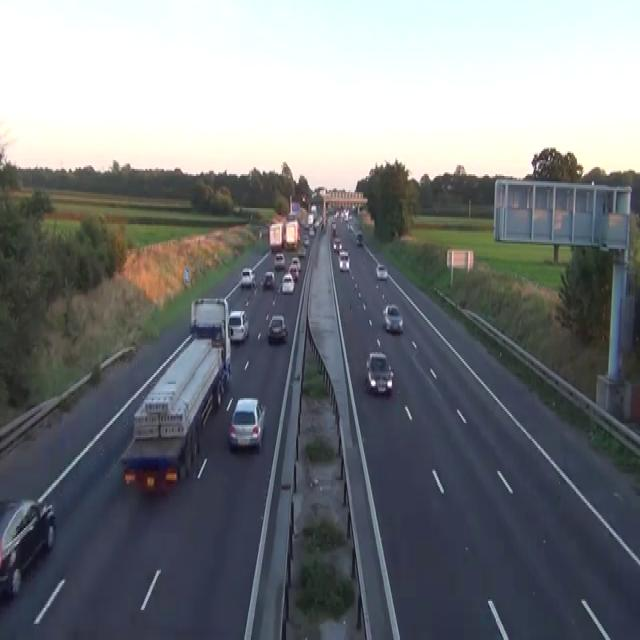Car: (0, 496, 56, 597), (228, 396, 266, 452), (365, 350, 393, 395), (228, 309, 249, 343), (267, 313, 287, 343), (382, 304, 403, 332), (240, 267, 255, 286), (338, 249, 350, 272), (281, 272, 294, 293), (211, 325, 222, 347), (262, 270, 275, 288), (274, 252, 285, 270), (288, 263, 299, 281), (376, 263, 387, 279), (291, 256, 301, 272), (313, 215, 323, 231), (332, 238, 342, 251), (356, 231, 363, 245), (307, 213, 314, 226), (342, 208, 349, 220), (298, 245, 305, 256), (302, 235, 309, 245), (331, 220, 336, 234), (308, 226, 315, 236), (347, 222, 353, 231), (352, 205, 357, 215), (300, 194, 306, 202), (259, 228, 262, 238)
Truck: (119, 295, 231, 494), (189, 297, 231, 382), (284, 217, 300, 249), (269, 220, 284, 252)
